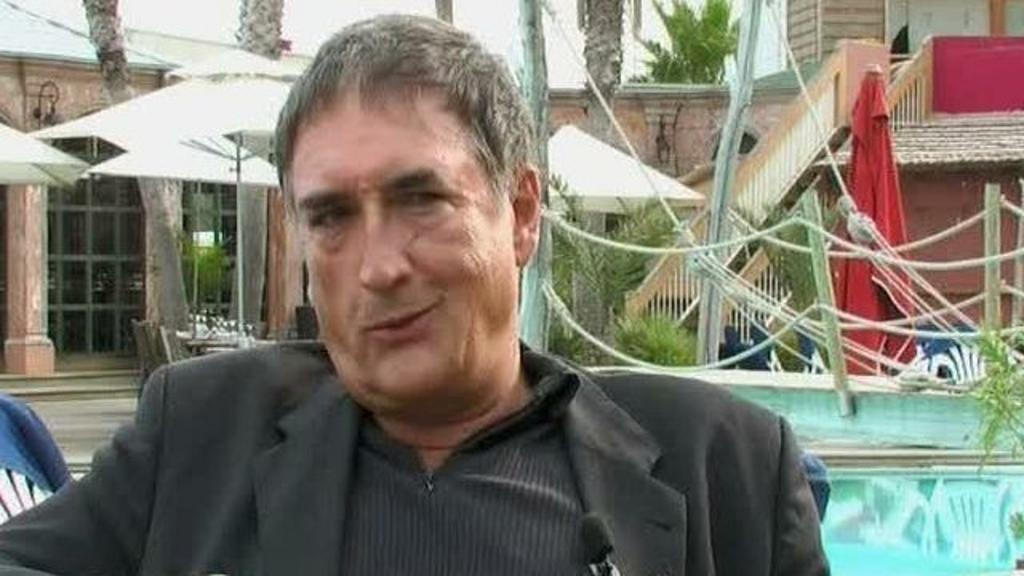face: (286, 86, 510, 404)
